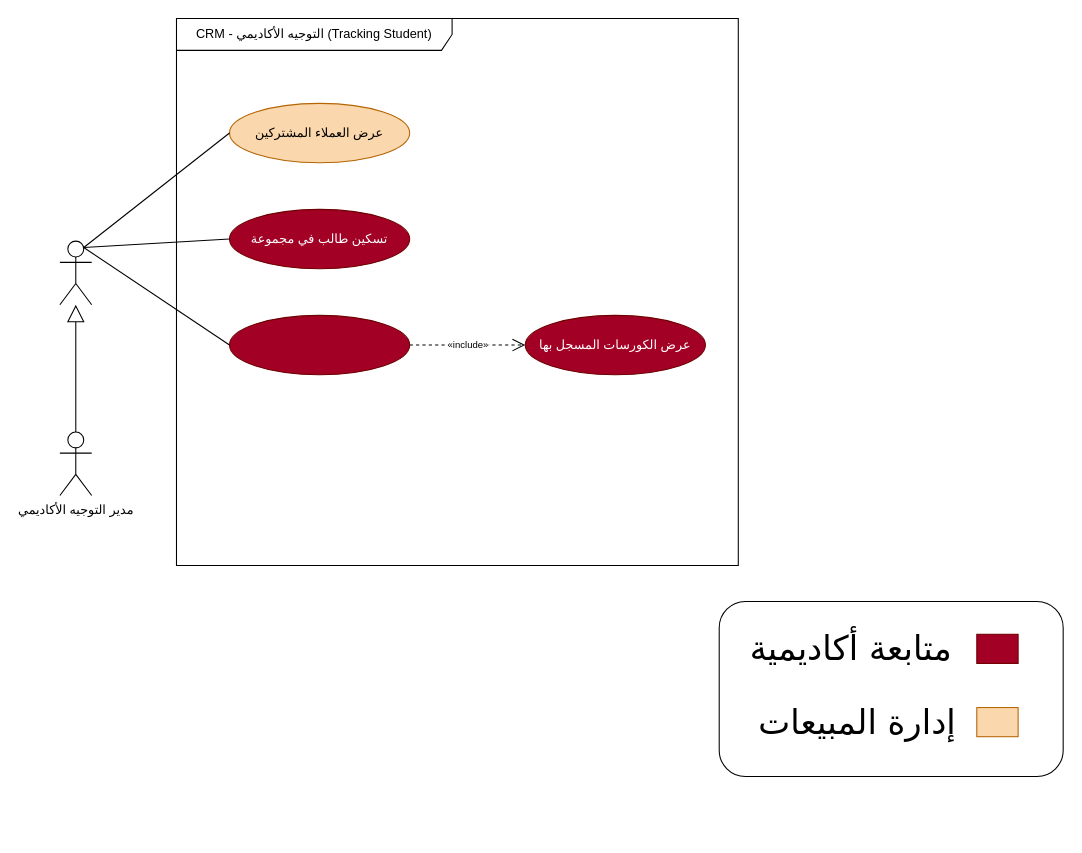
The diagram is 1082 pixels wide and 853 high, and some of its shapes have lost their labels. Here are the shapes that lost their labels. From the top down, the box of each, then its label:
(59, 240, 92, 305): موجه أكاديمي
(228, 314, 410, 375): متابعة السجل الأكاديمي للطالب
